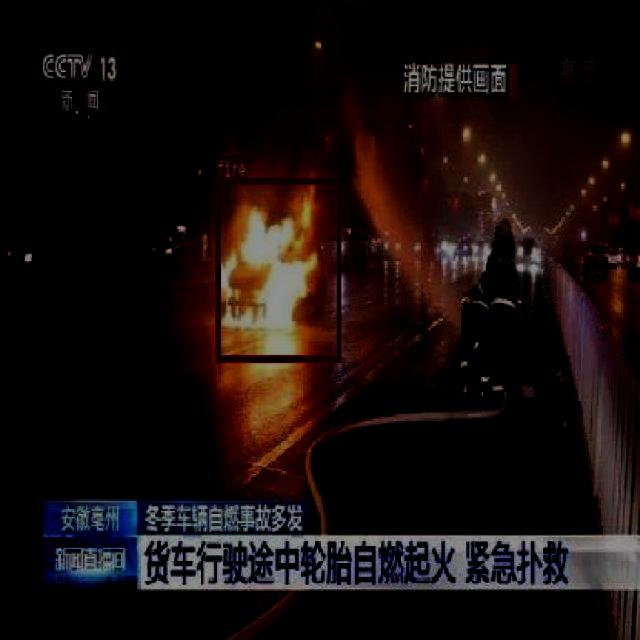fire: (215, 176, 340, 361)
